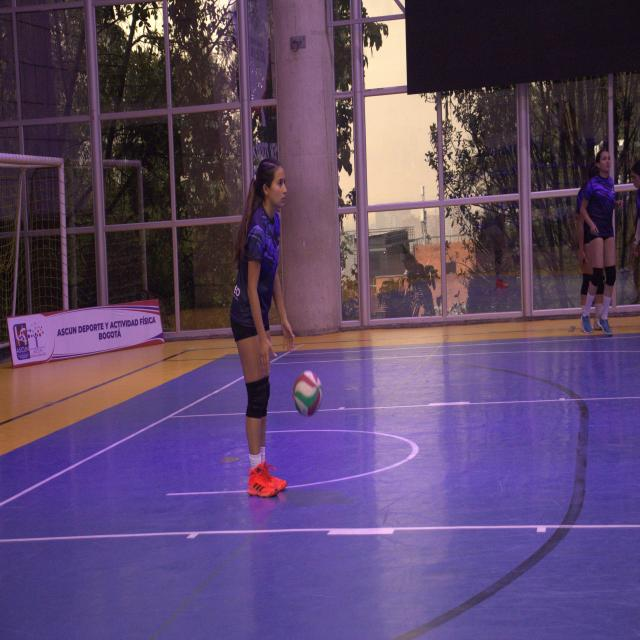volleyball: (292, 371, 324, 418)
